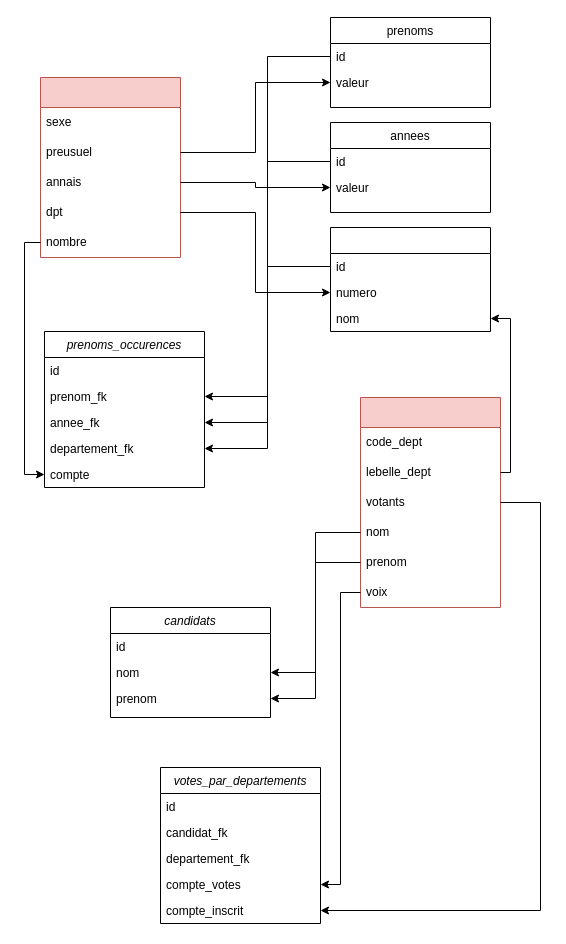
The diagram is 566 pixels wide and 944 high, and some of its shapes have lost their labels. Each missing label, with the box of its shape:
departements: (330, 226, 490, 332)
etat civil CSV: (40, 76, 180, 258)
resultats election XLSX: (360, 396, 500, 608)
